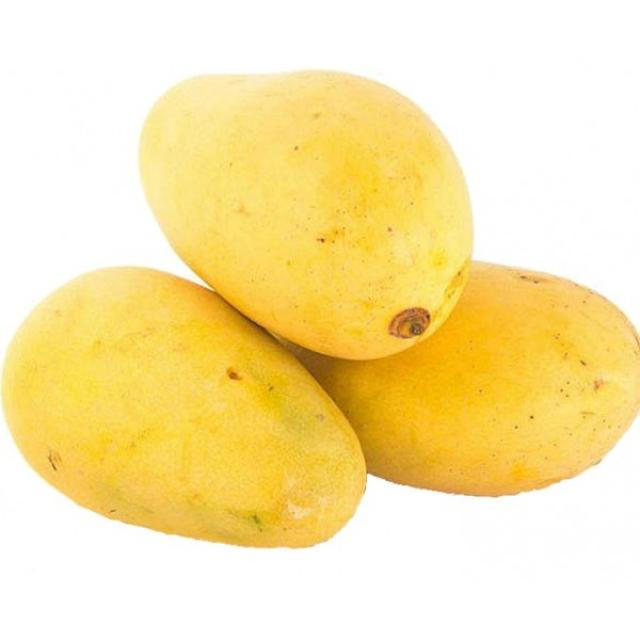mango: (4, 266, 363, 546), (127, 74, 488, 352), (284, 261, 640, 495)
